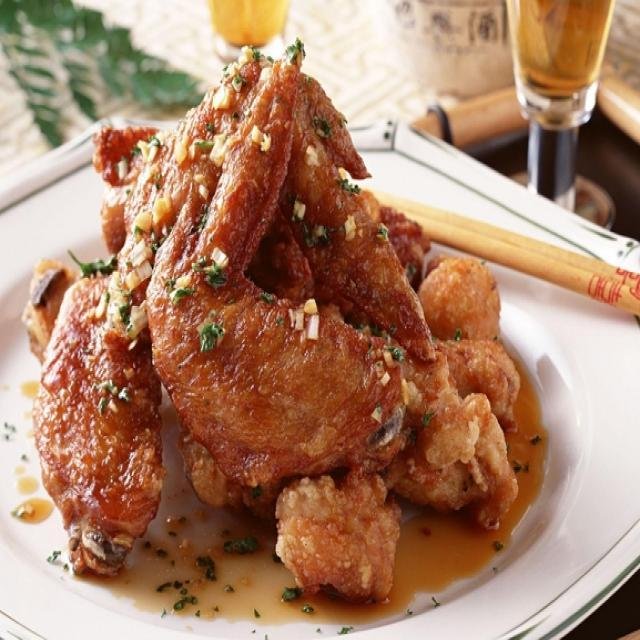Deep fried chicken wing: (39, 58, 521, 598)
